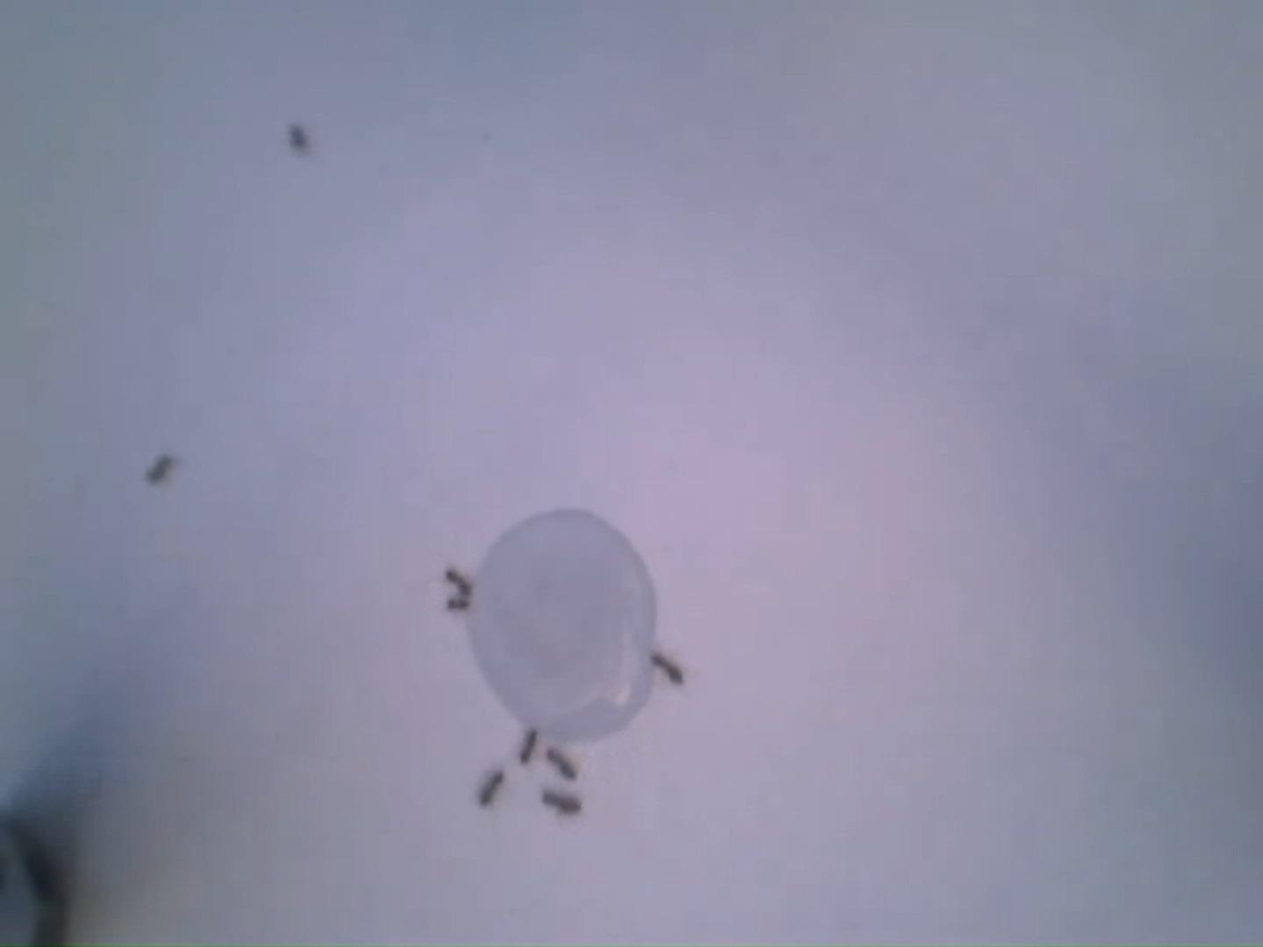Ant: (544, 785, 584, 815), (548, 746, 580, 780), (654, 651, 686, 684), (480, 768, 507, 807), (446, 566, 475, 593), (521, 727, 542, 763), (150, 454, 176, 482), (291, 122, 313, 152), (448, 593, 475, 612)
